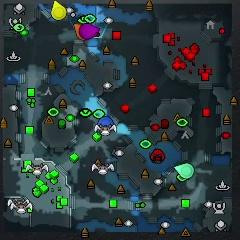p1: (98, 115, 115, 127)
p2: (174, 163, 194, 179)
p3: (80, 23, 100, 39)
p4: (51, 1, 67, 21)
p5: (74, 23, 87, 41)
